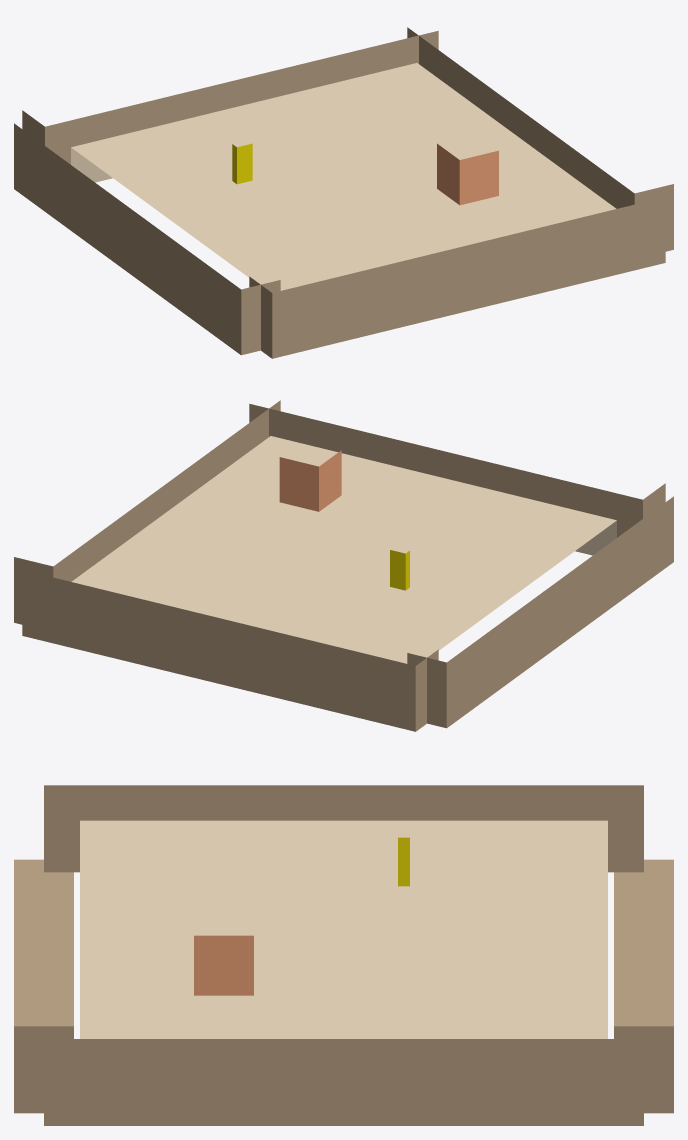
The model's file is sandbox.glb.
3 views of the same model, one above another, from view 1: azimuth 30°, elevation 25°; view 2: azimuth 150°, elevation 25°; view 3: azimuth 270°, elevation 25° (orthographic). The views are drawn at different scales.
Size of the model in its own units: 1.1 by 0.21 by 1.1.
